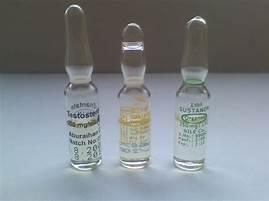Syringe: (167, 7, 215, 174), (59, 1, 105, 172), (116, 18, 154, 174)
